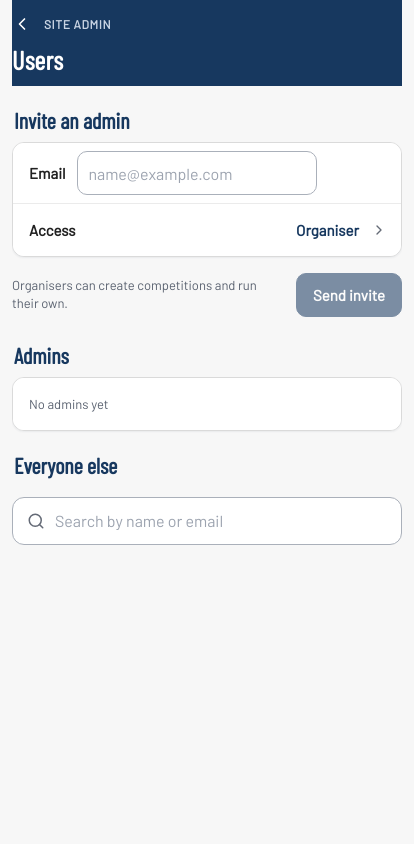
Test: UsersPage › hides Make admin from site admins
The image size is (414, 844).
Type "pat" into the search field named "Search accounts" at (221, 521), box [55,499,387,543]
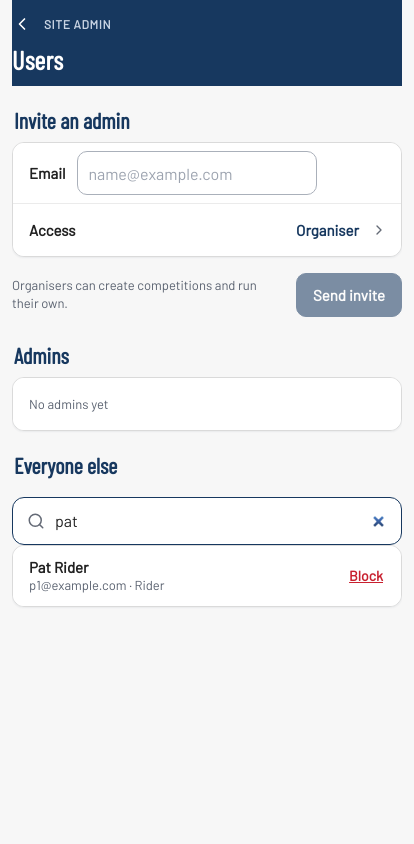
Check: the button with aria-label "Block Pat Rider" is shown, box [345,554,387,598]
